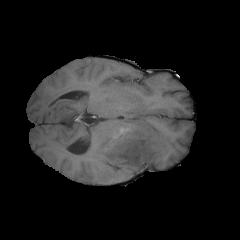glioma: (89, 119, 173, 184)
